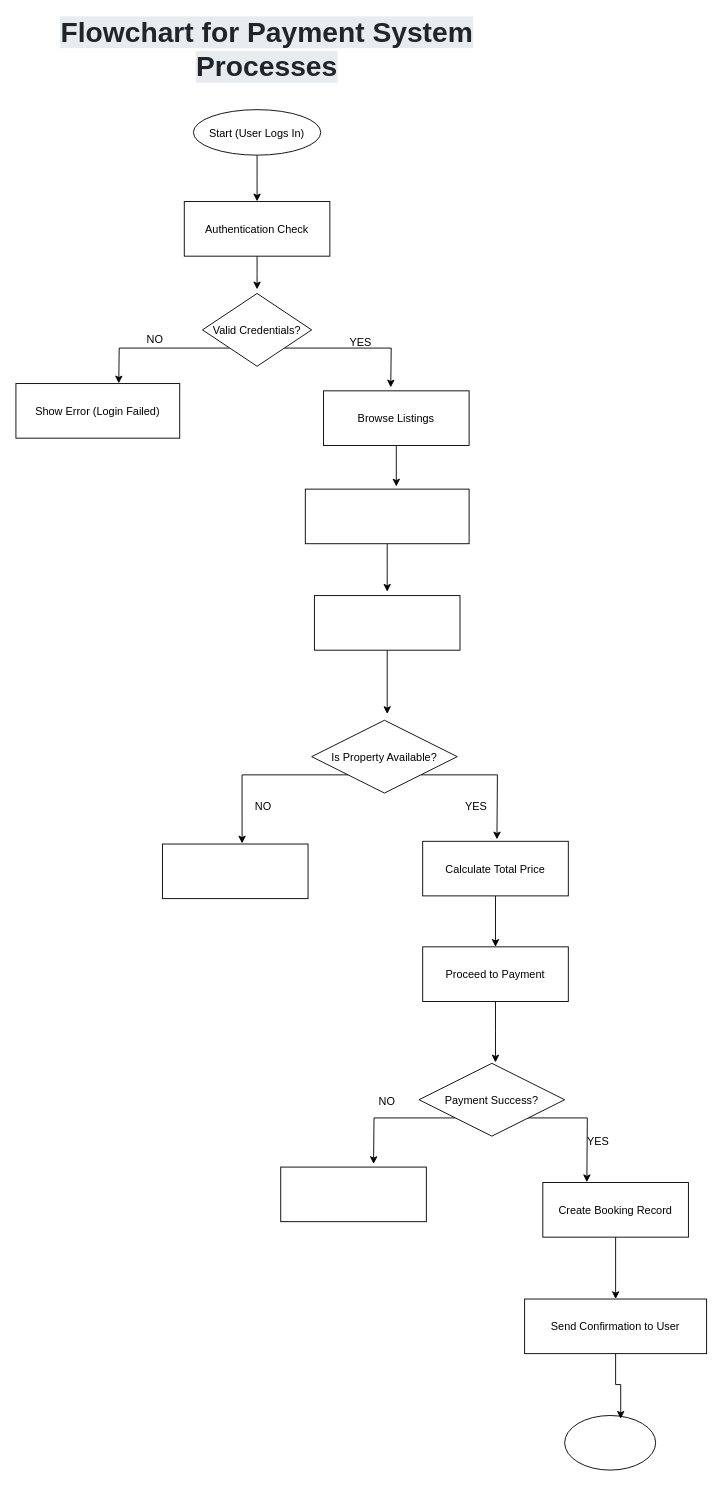
Image size: 723x1486. Some labels were removed from this diagram. The shapes that lost their labels are listed below. From the top down, each one's box as (x1, y1, x2, y2) in pixels, then its label:
(304, 488, 469, 544): Select Property & Dates
(313, 595, 460, 650): Check Availability
(162, 843, 308, 899): Show Not Available
(280, 1166, 426, 1222): Show Payment Failed
(564, 1415, 656, 1470): End
